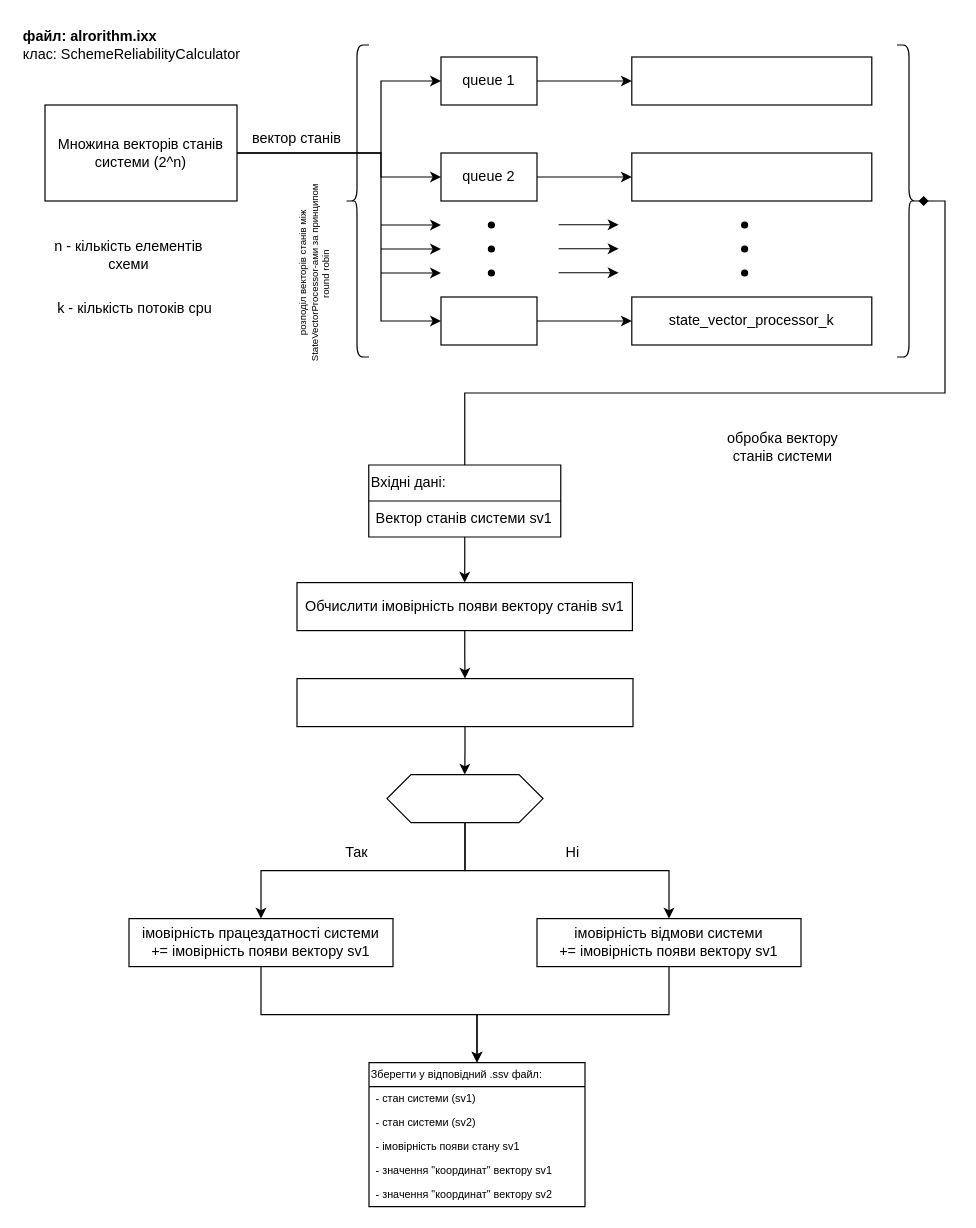
Some shapes in this 976 by 1228 pixel diagram are drawn without their labels. Here are the shapes that lost their labels. From the top down, the centre of each, then its label:
At (751,80): "state_vector_processor_1".
At (751,176): "state_vector_processor_2".
At (488,320): "queue k".
At (464,702): "Вектор станів системи sv2 = реконфігурація(sv1)".
At (464,798): "стан системи (sv2) робочий ?".
